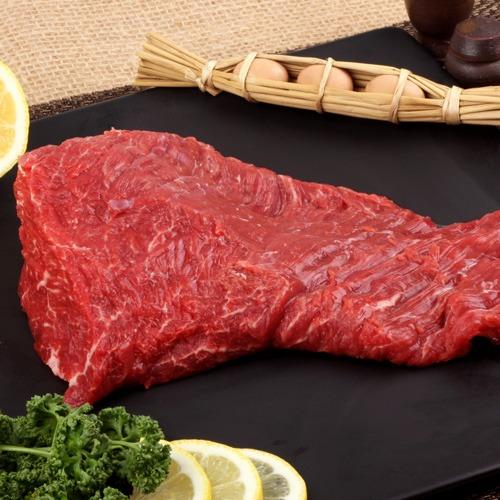beef: (13, 101, 383, 311)
